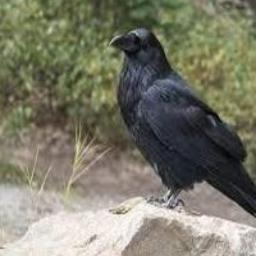Crow: (109, 28, 256, 239)
